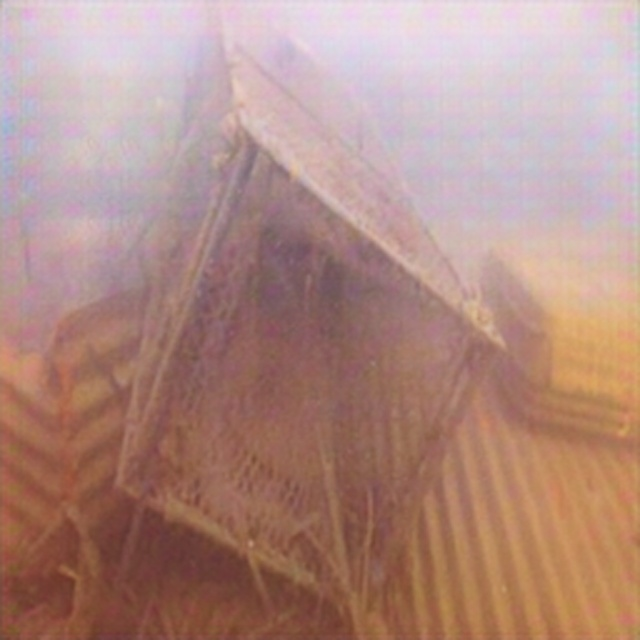mine: (112, 0, 505, 606)
